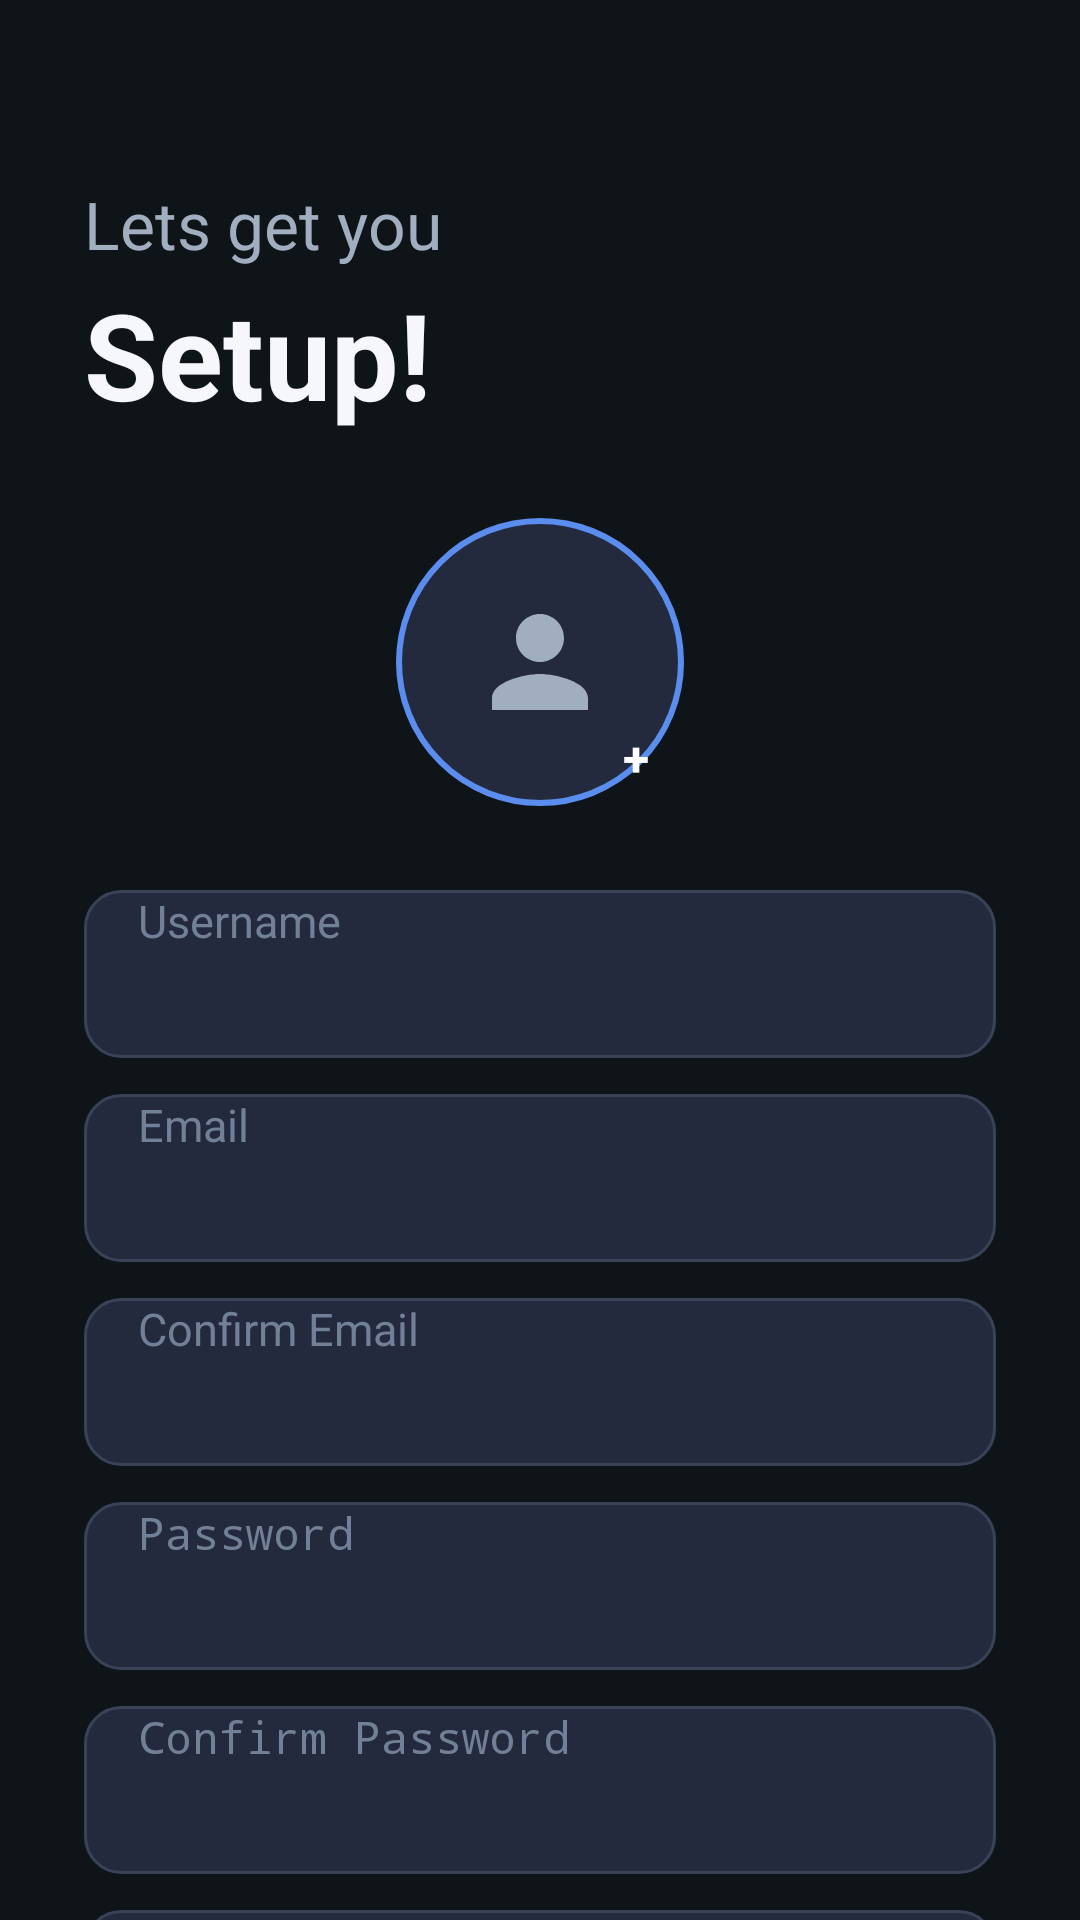

Named icons in this screenshot (1080px x 1920px) and their bounding boxes, (x1, y1, x2, y2):
Profile: (492, 614, 588, 710)
